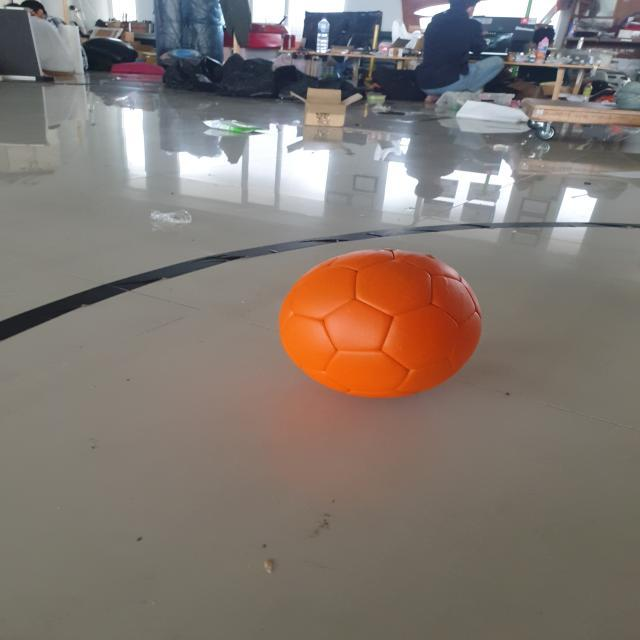bola: (274, 246, 492, 406)
